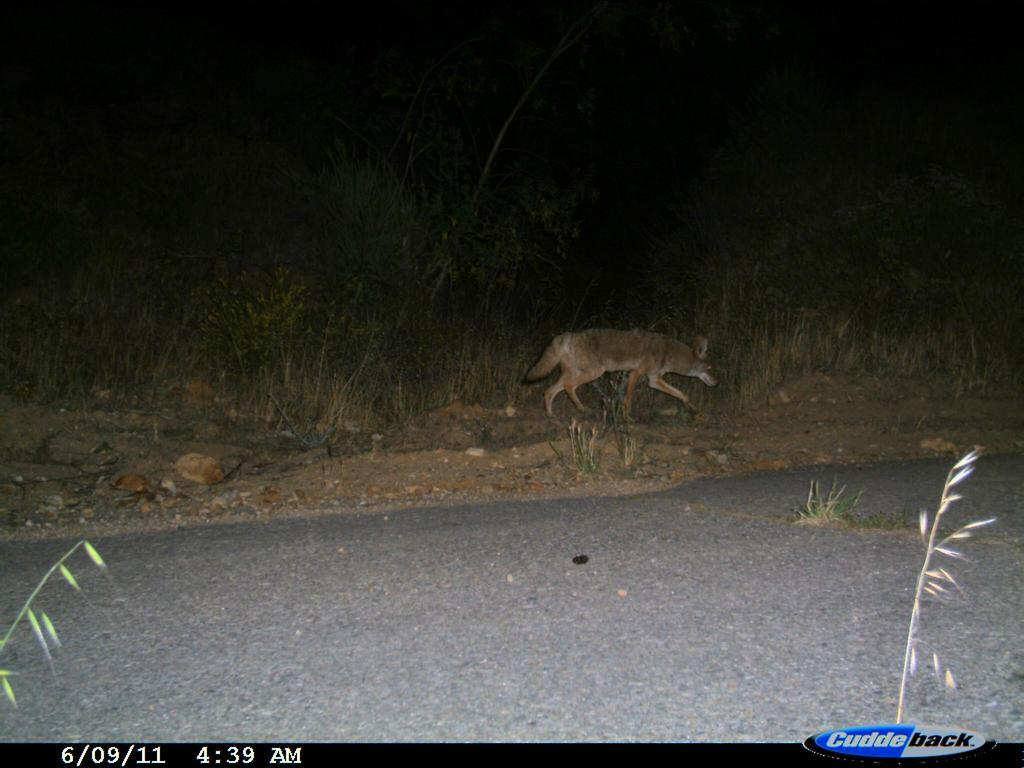coyote: (524, 321, 720, 425)
